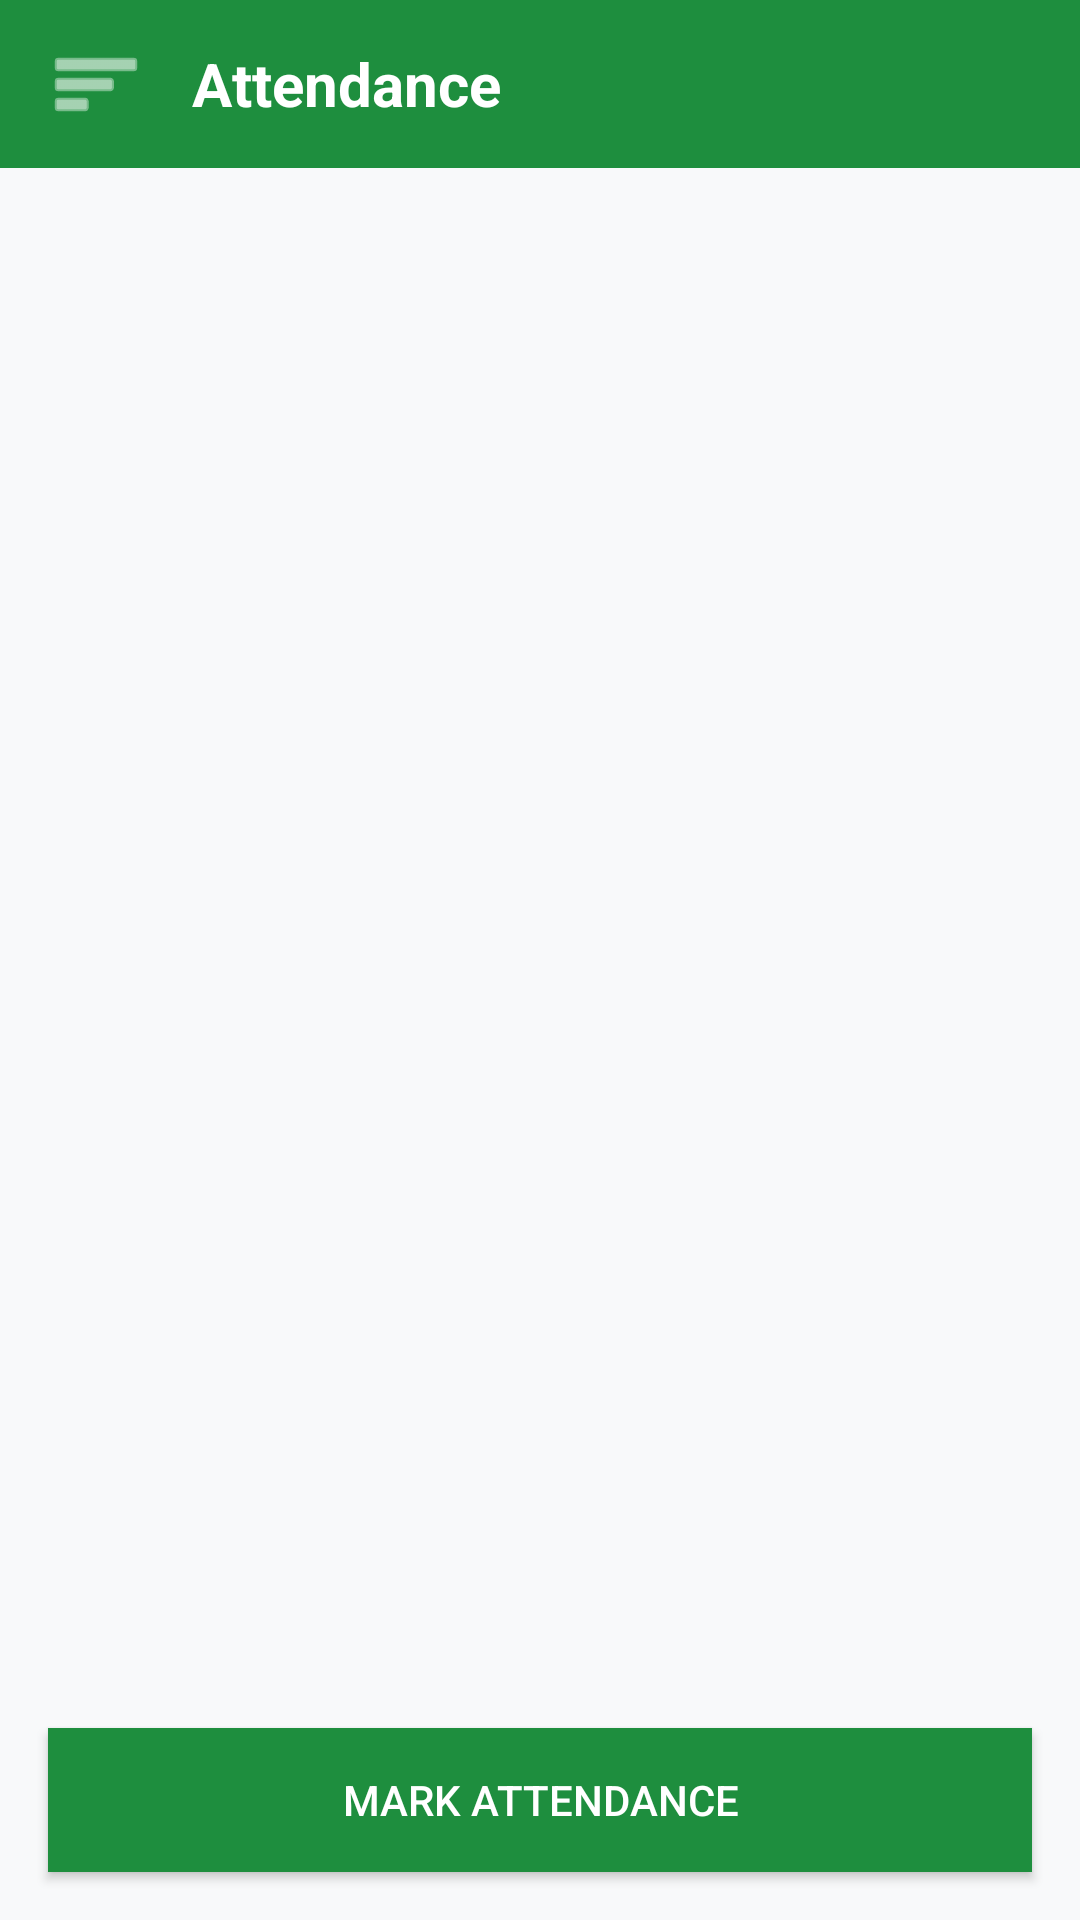

Locate icon controls on the screen. Image size 1080×1920, boxes as (x1, y1, x2, y2).
Open Menu: (55, 58, 137, 111)
